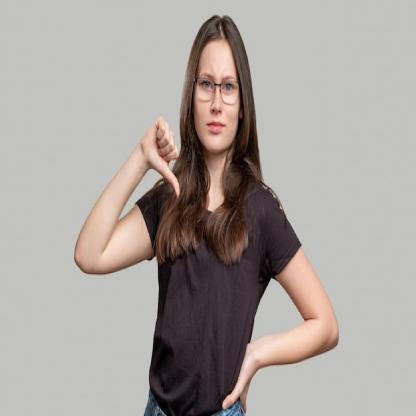thumb_down: (141, 112, 183, 200)
